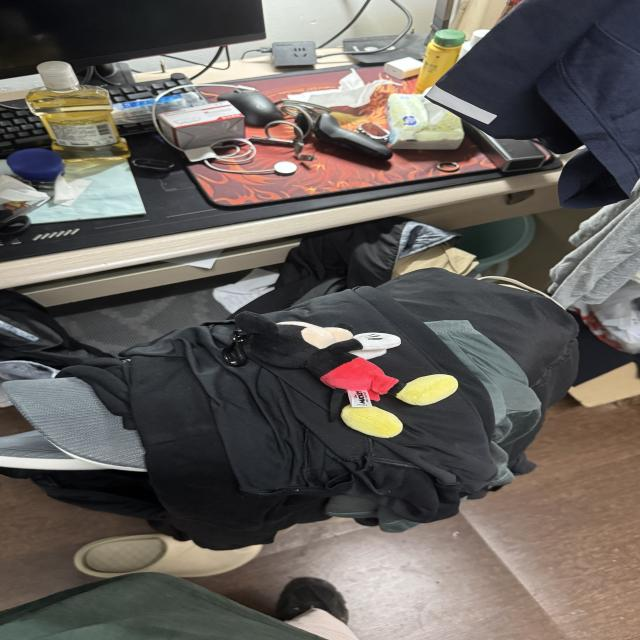mickey: (236, 312, 457, 405)
tissue: (288, 70, 401, 108), (0, 175, 49, 210)
